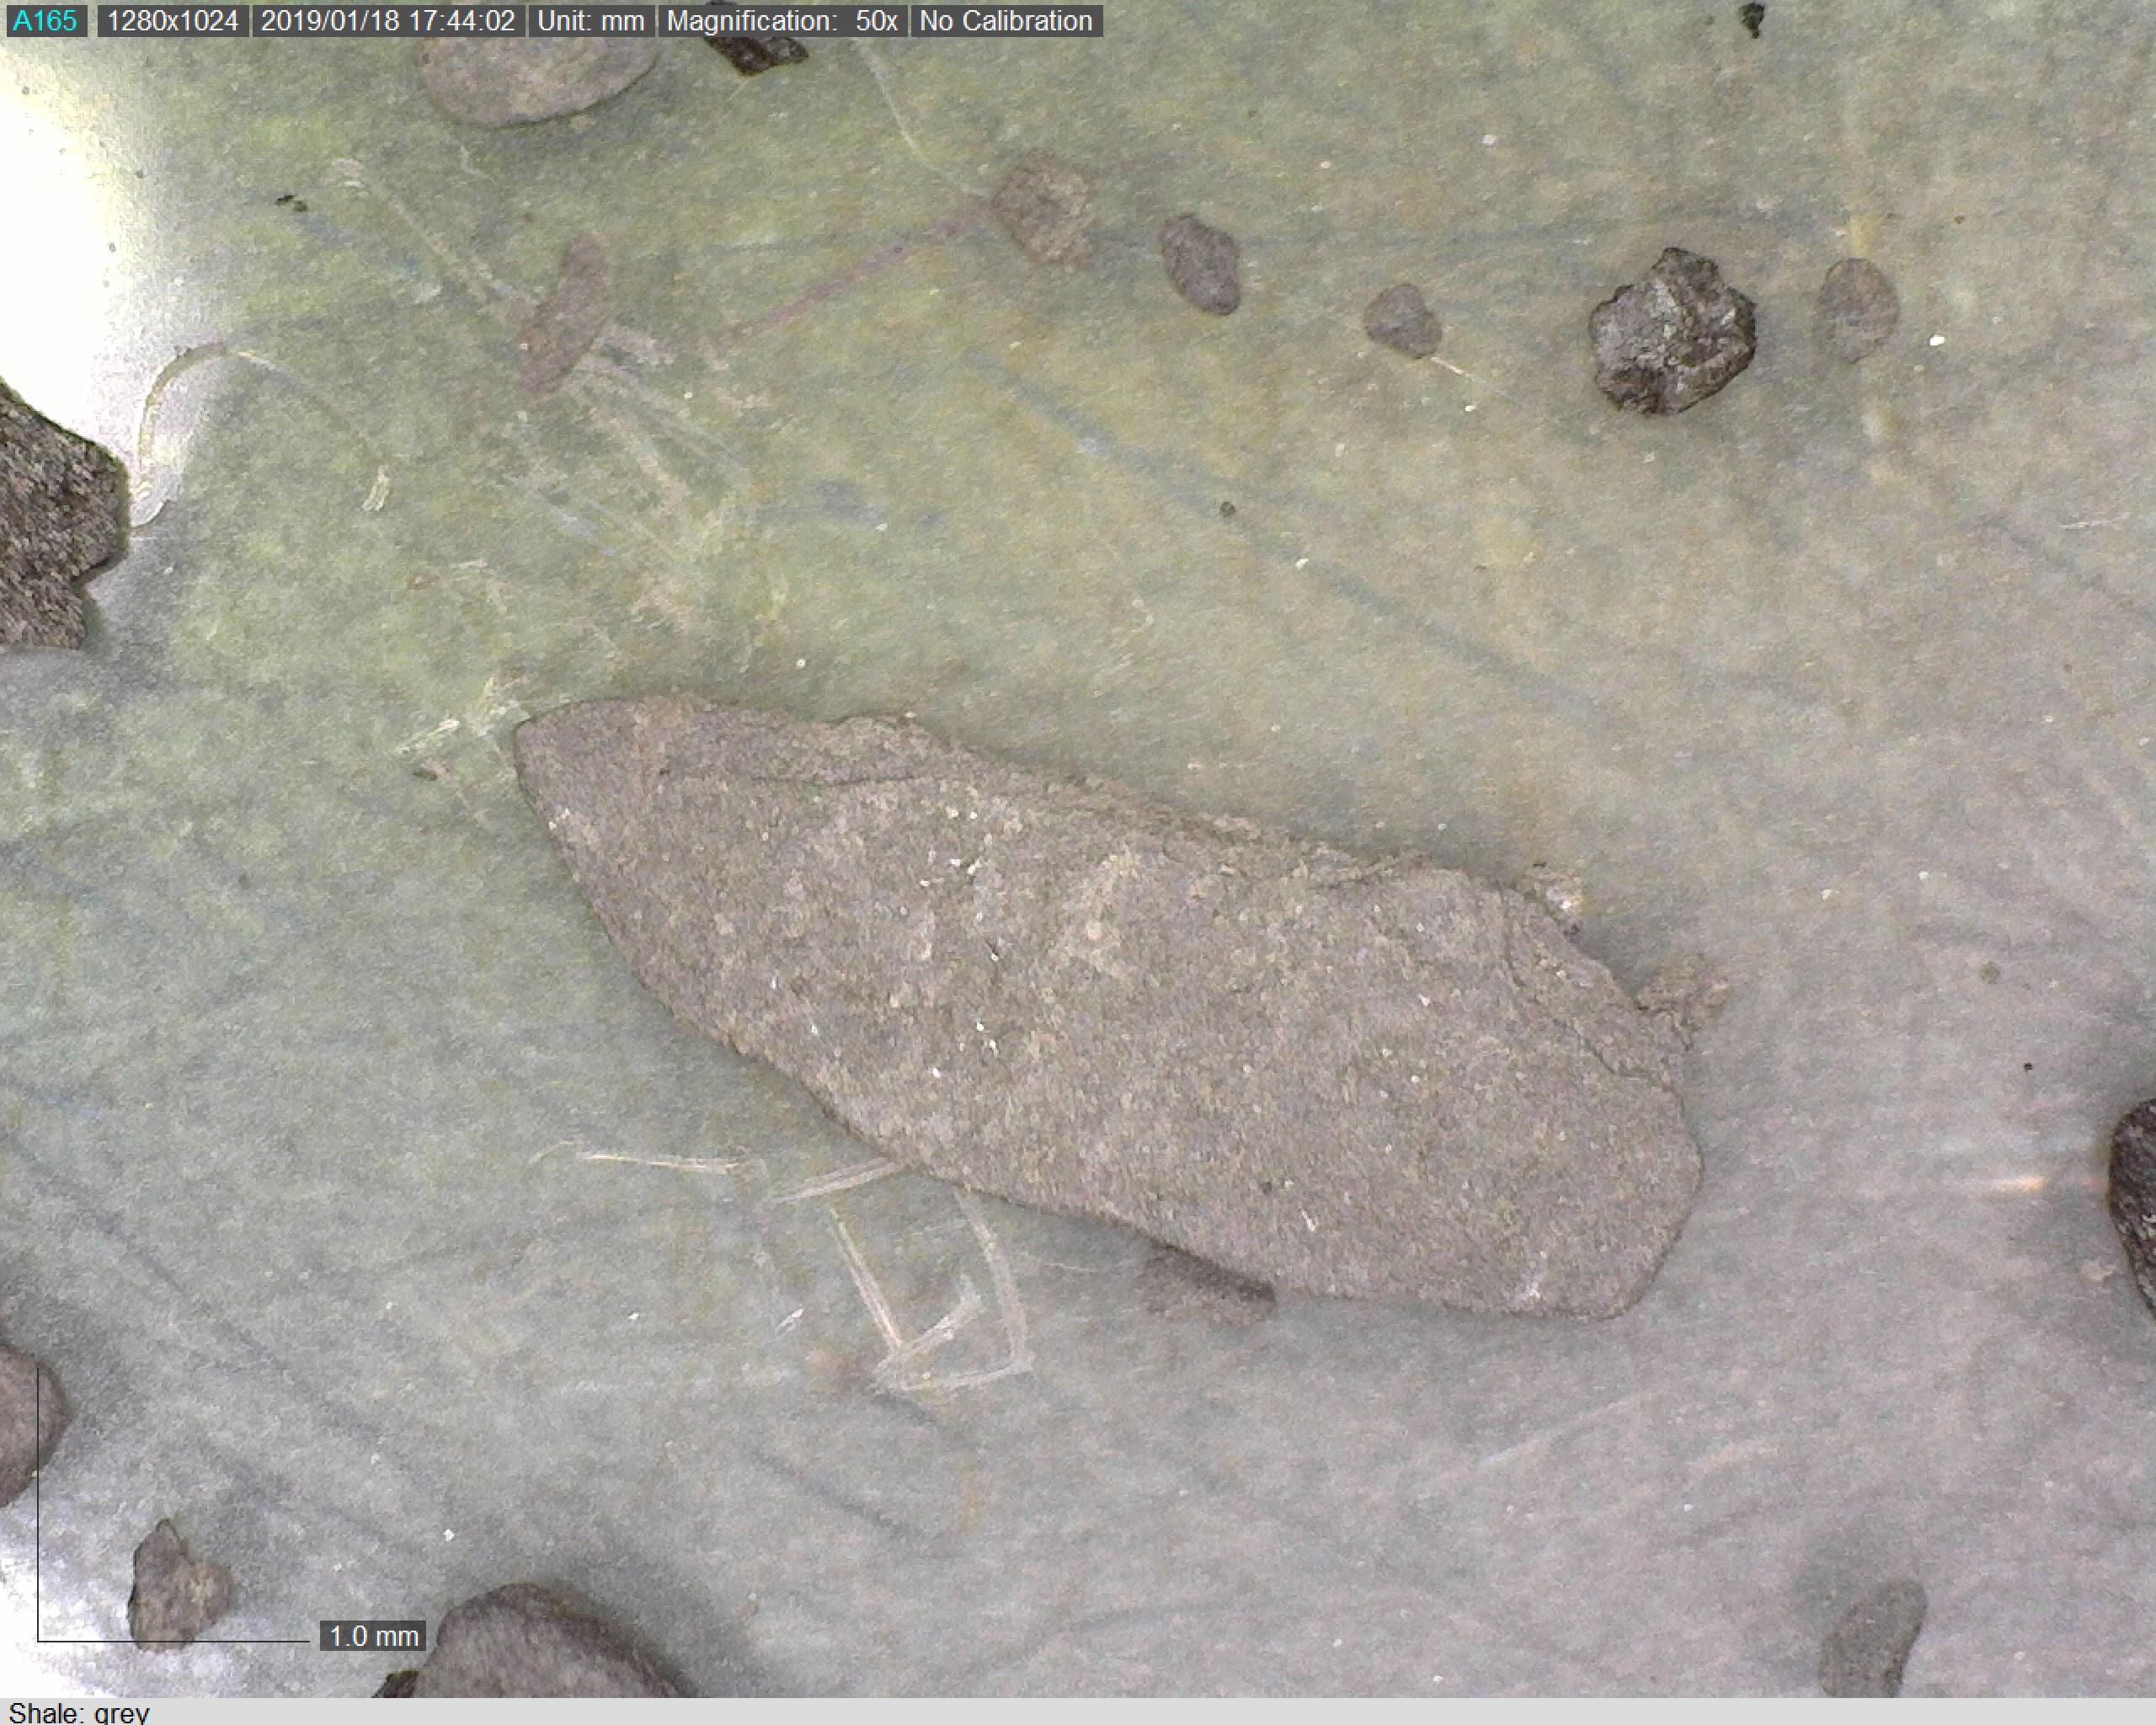Shale: (498, 686, 1714, 1331)
